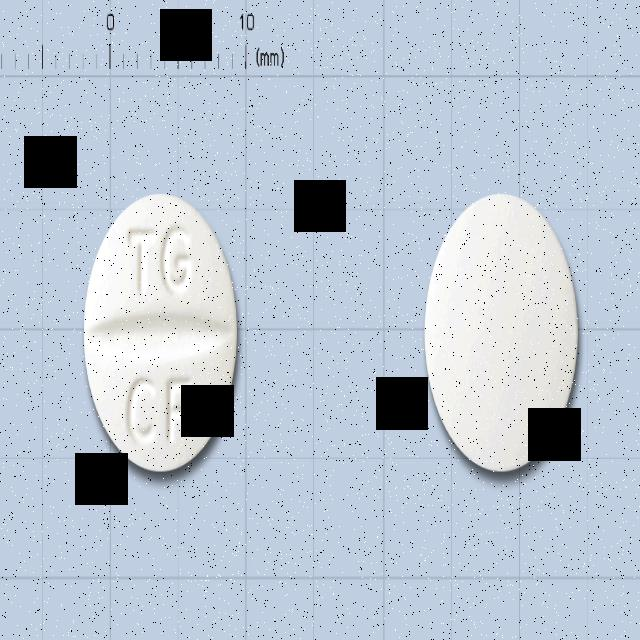Taiguk Ciprofloxacin HCl Tab: (84, 194, 238, 474)
